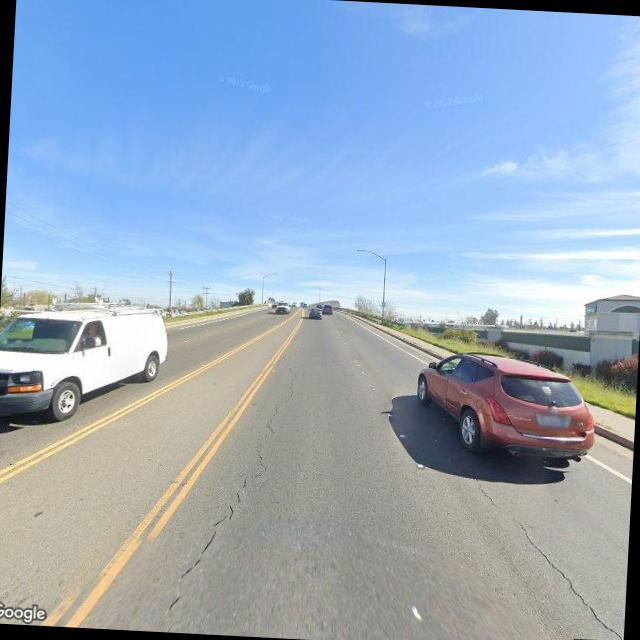crack: (461, 475, 629, 640), (180, 364, 294, 586)
